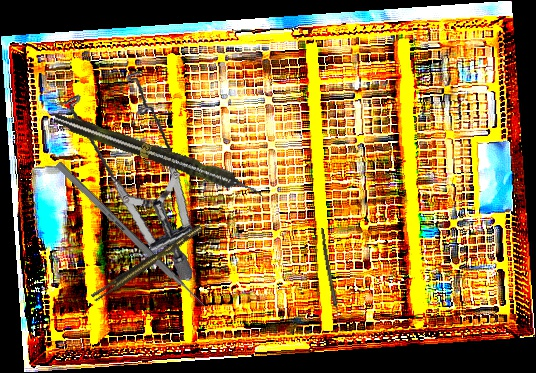Handpiece: (51, 108, 266, 203)
Pusher: (54, 161, 218, 319)
Speculum: (38, 60, 223, 282)
Surgical Spoon: (318, 227, 344, 334)
Tissue Forceps: (88, 224, 207, 303)
